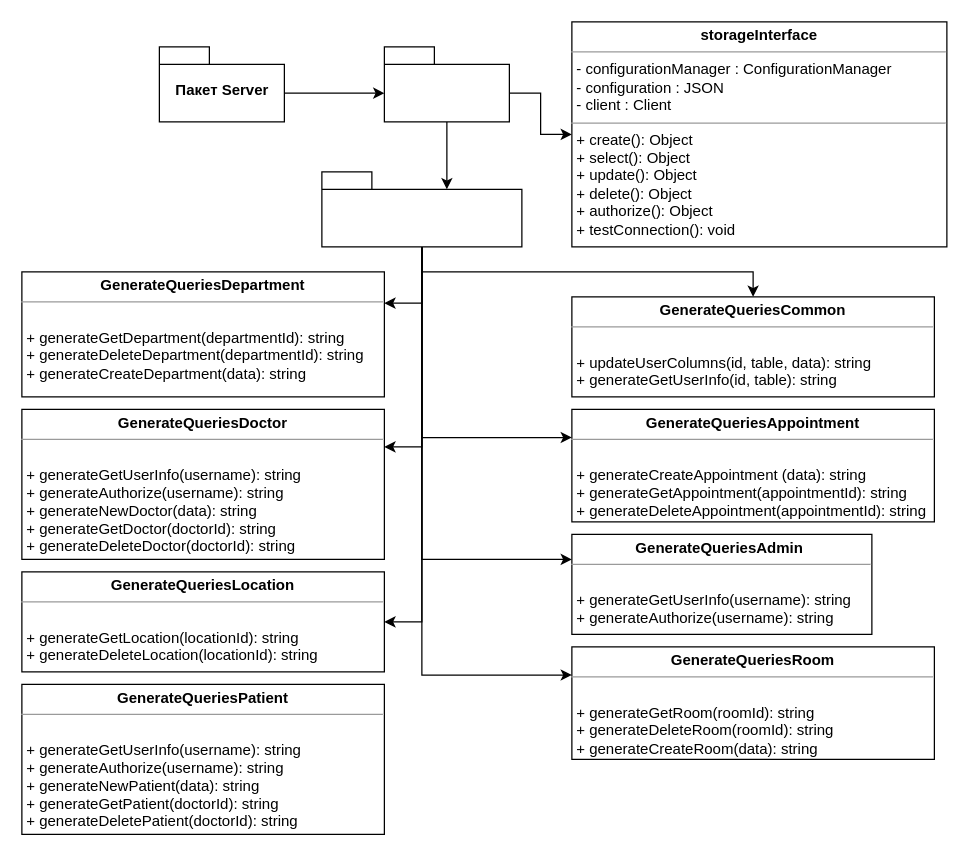
The diagram is 969 pixels wide and 856 high, and some of its shapes have lost their labels. The shapes that lost their labels are listed below. From the top down, each one's centre as x and y in pixels, then its label:
point (446, 84): Пакет Storage
point (421, 209): Пакет PosgreSQLQuery
